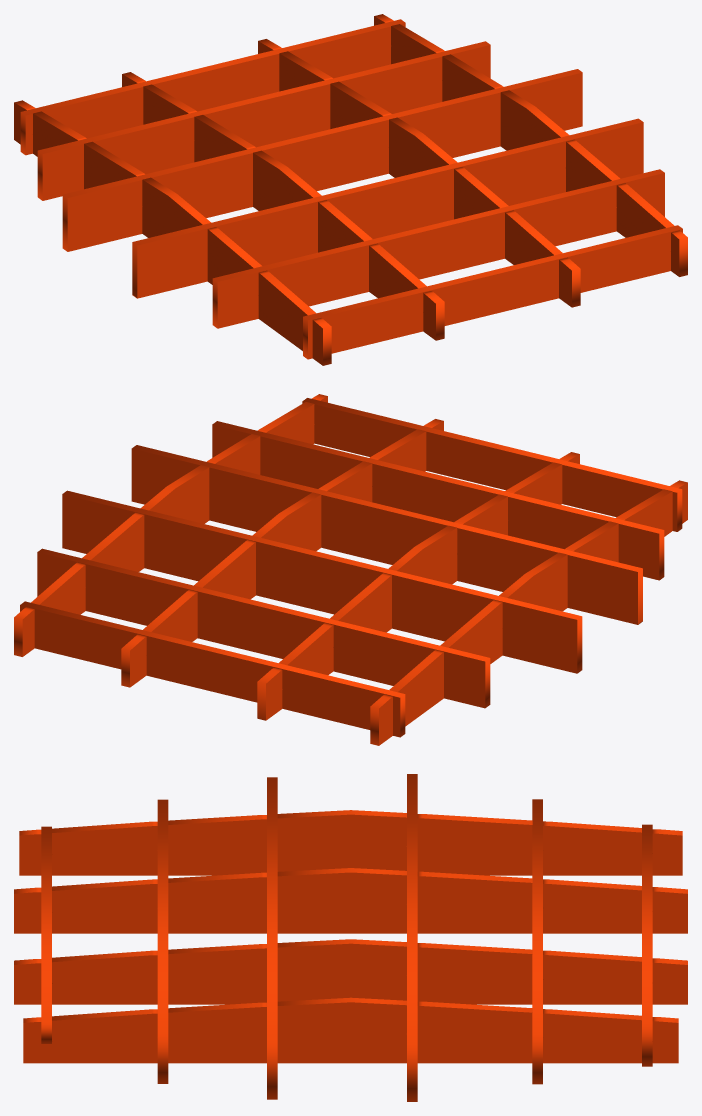
Rendered from sliced.fbx.
The picture shows the model from 3 angles, top to bottom: view 1: azimuth 30°, elevation 25°; view 2: azimuth 150°, elevation 25°; view 3: azimuth 270°, elevation 25°; orthographic projection. The views are drawn at different scales.
Parts seen in each view (by area): view 1: default; view 2: default; view 3: default.
Part boxes in pixels (x1=…): default: x1=14, y1=14, x2=687, y2=365; default: x1=14, y1=394, x2=687, y2=745; default: x1=14, y1=774, x2=687, y2=1101.
Size of the model in its own units: 68.21 by 7.2 by 72.
